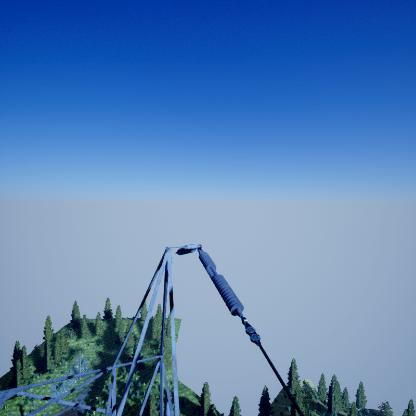insulator: (199, 250, 245, 319)
